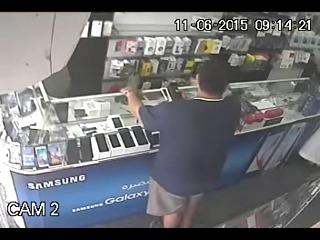Normal: (143, 62, 143, 62)
shoplifting: (122, 56, 246, 229)
